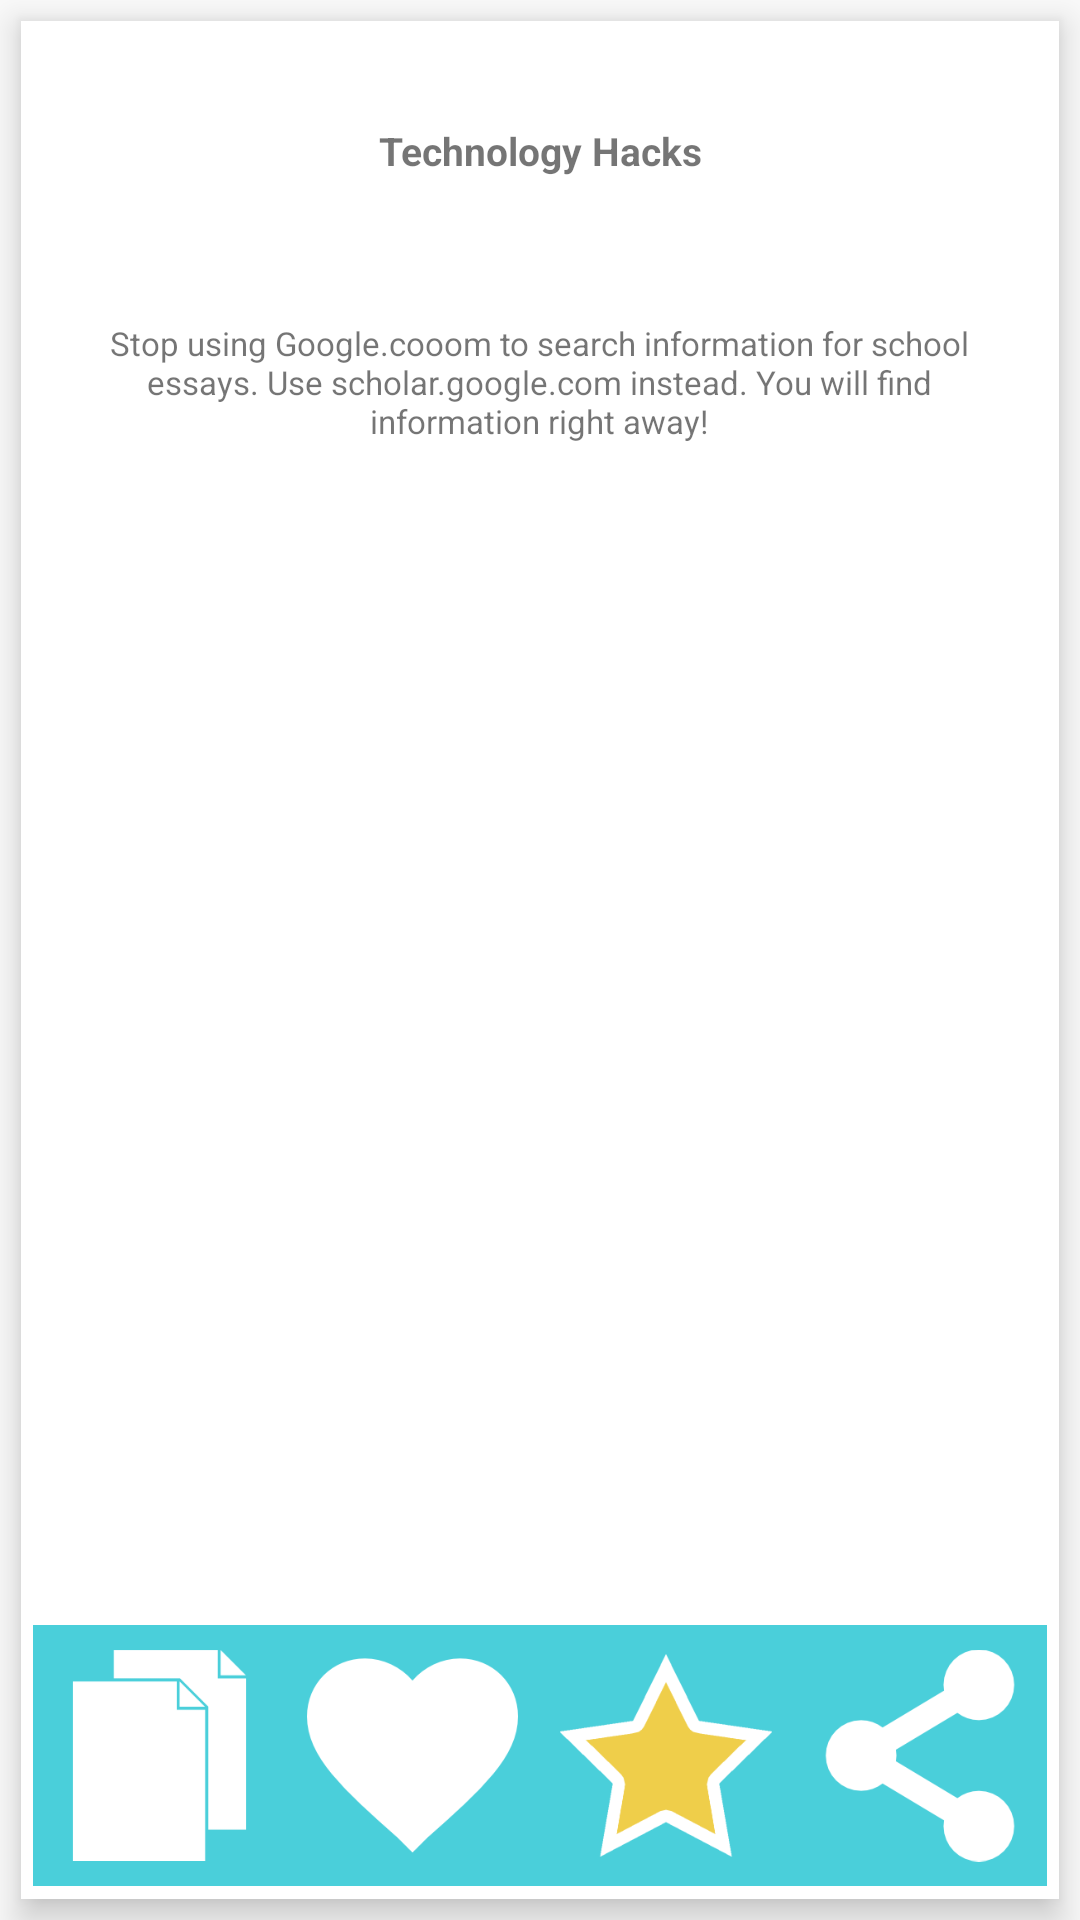

Screen size 1080*1920. Icon name, then its box in pixels as (x1, y1, x2, y2):
copyfilled: (33, 1625, 286, 1886)
heartborder: (307, 1658, 518, 1853)
sharewhite: (793, 1625, 1047, 1886)
starborder: (560, 1654, 772, 1857)
